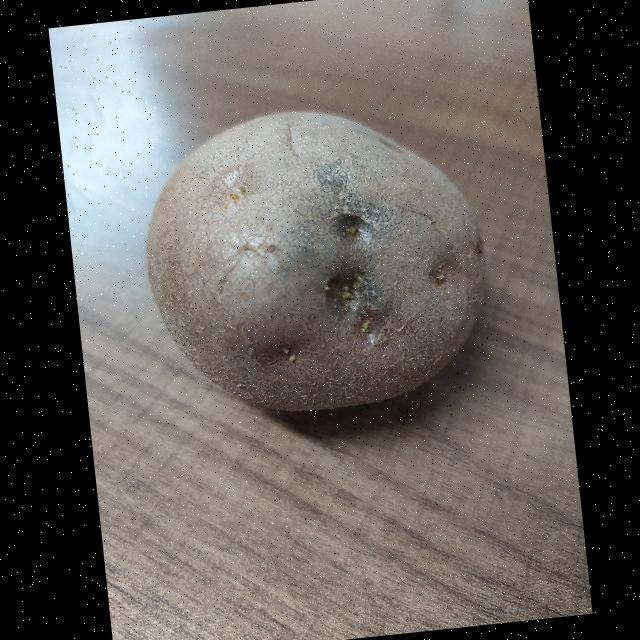Damaged potato: (159, 48, 502, 426)
